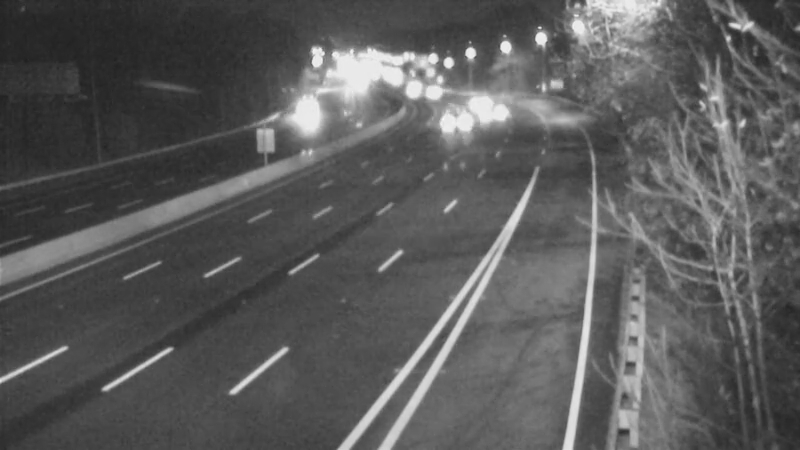vehicle: (410, 70, 460, 120), (450, 73, 500, 123), (464, 84, 514, 134), (431, 95, 481, 145), (274, 92, 324, 142)
